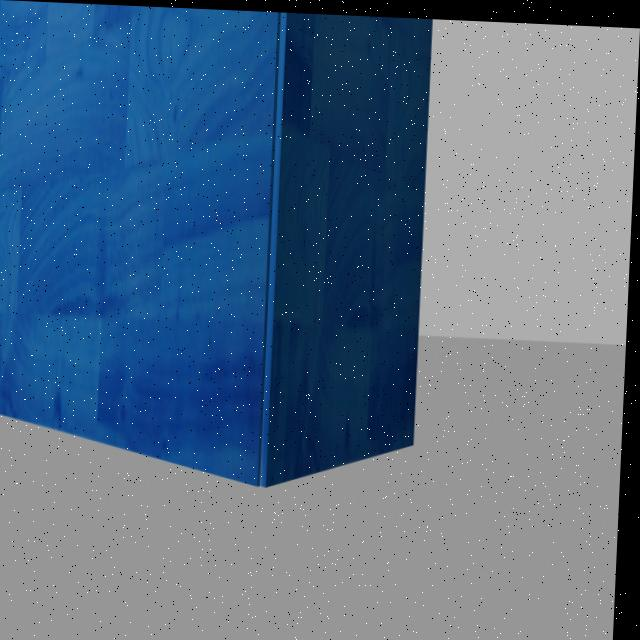shelf: (0, 0, 452, 494)
